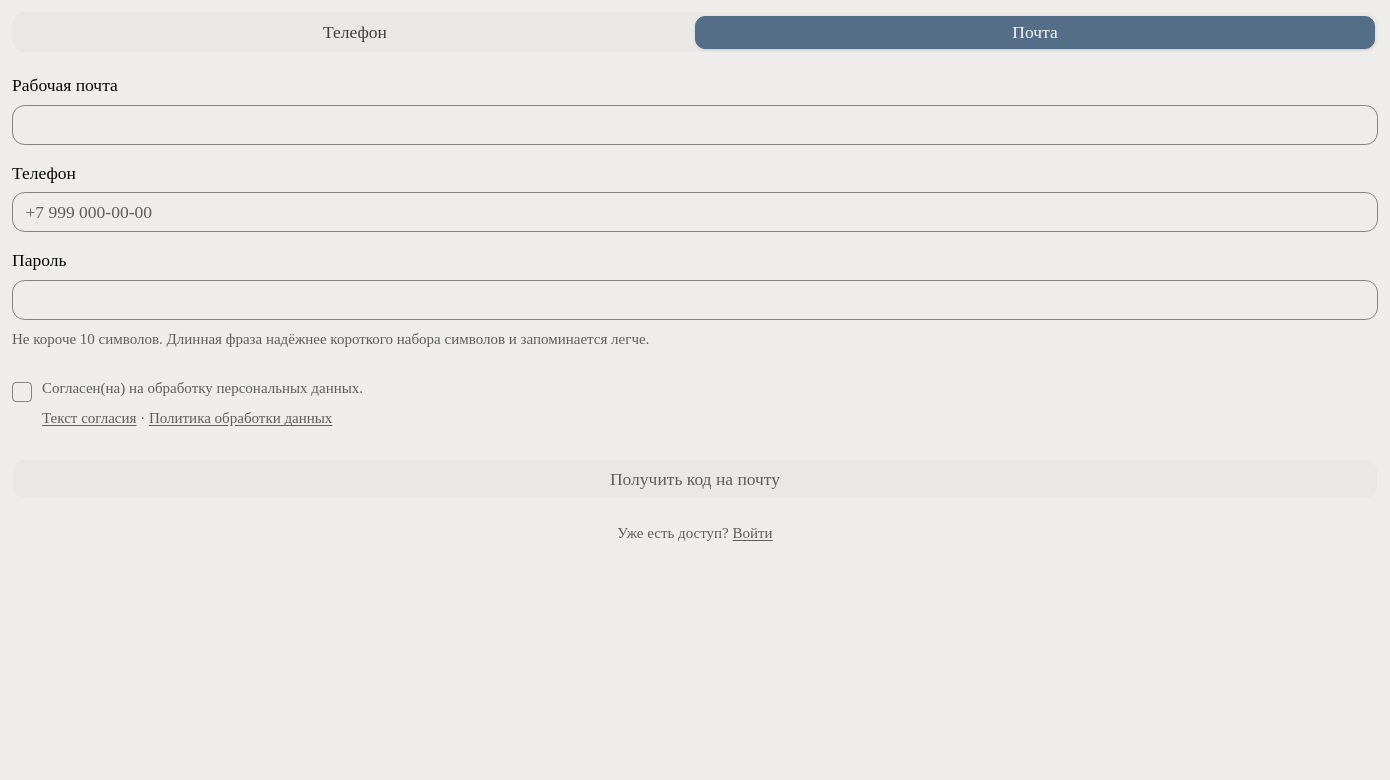
Test: вкладка «Почта» — прежняя регистрация по почте › с согласием — галочка уходит вместе с формой, дальше поле для кода
Type "hr@example.com" into the field labelled "Рабочая почта".
click(695, 124); type("hr@example.com")  # box [12,104,1378,144]
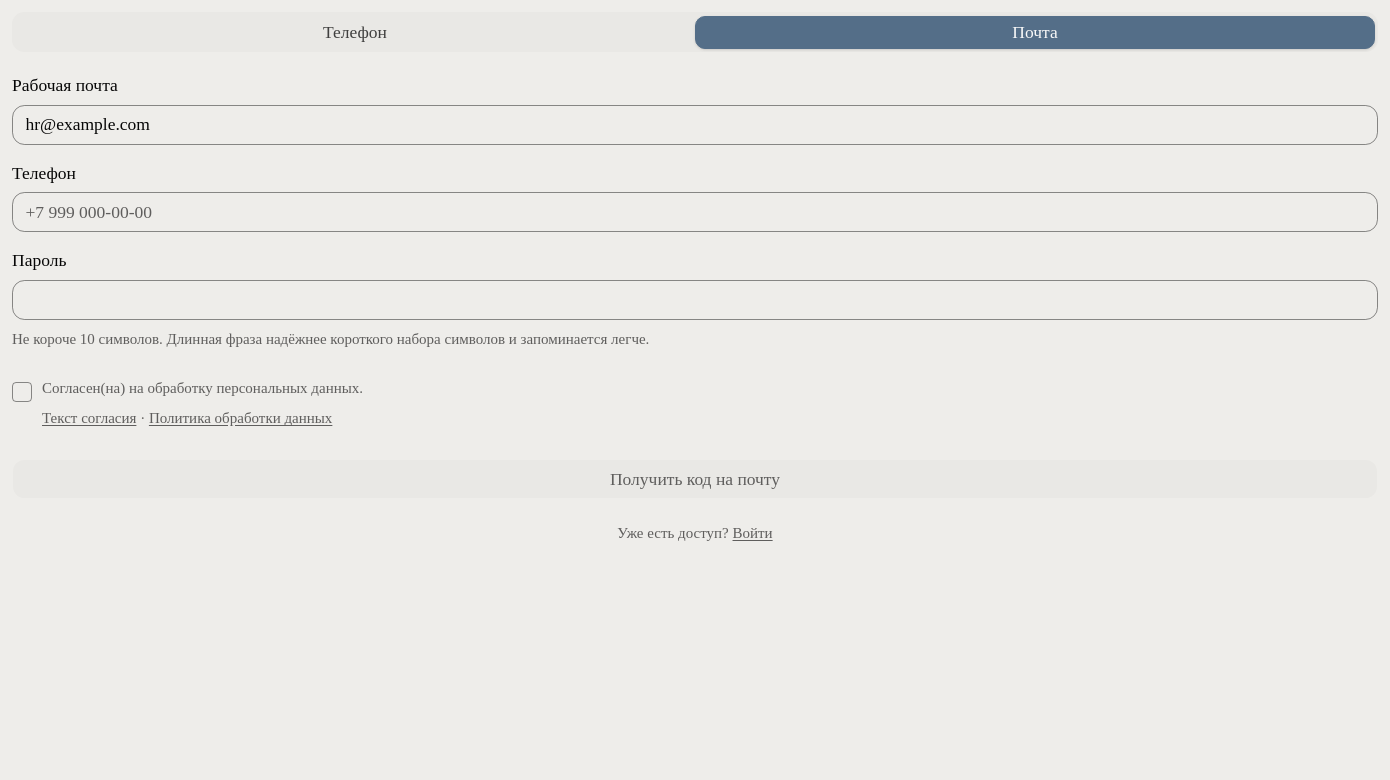
Type "+7 900 123-45-67" into the field labelled "Телефон".
click(695, 212); type("+7 900 123-45-67")  # box [12,192,1378,232]
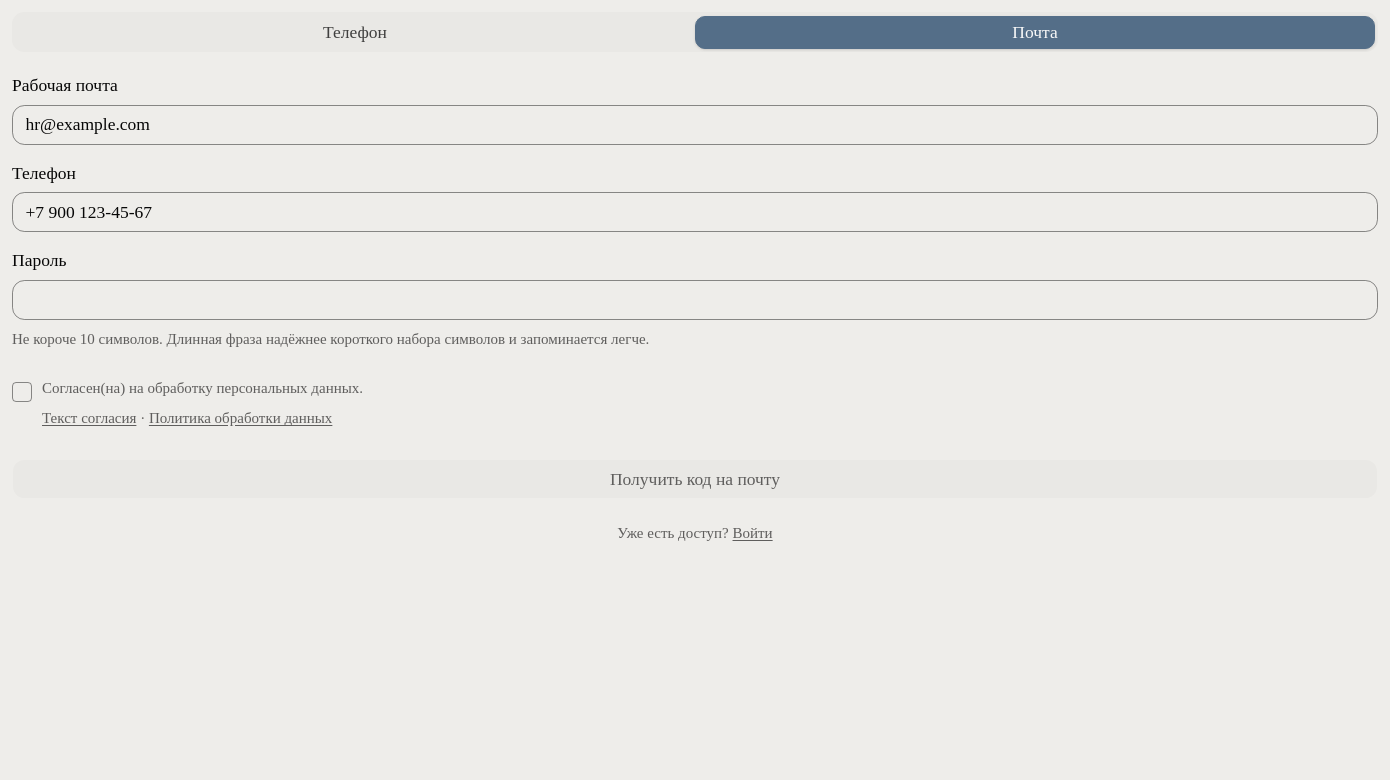
Type "длинный-пароль-1" into the password field labelled "Пароль".
click(695, 300); type("длинный-пароль-1")  # box [12,280,1378,320]
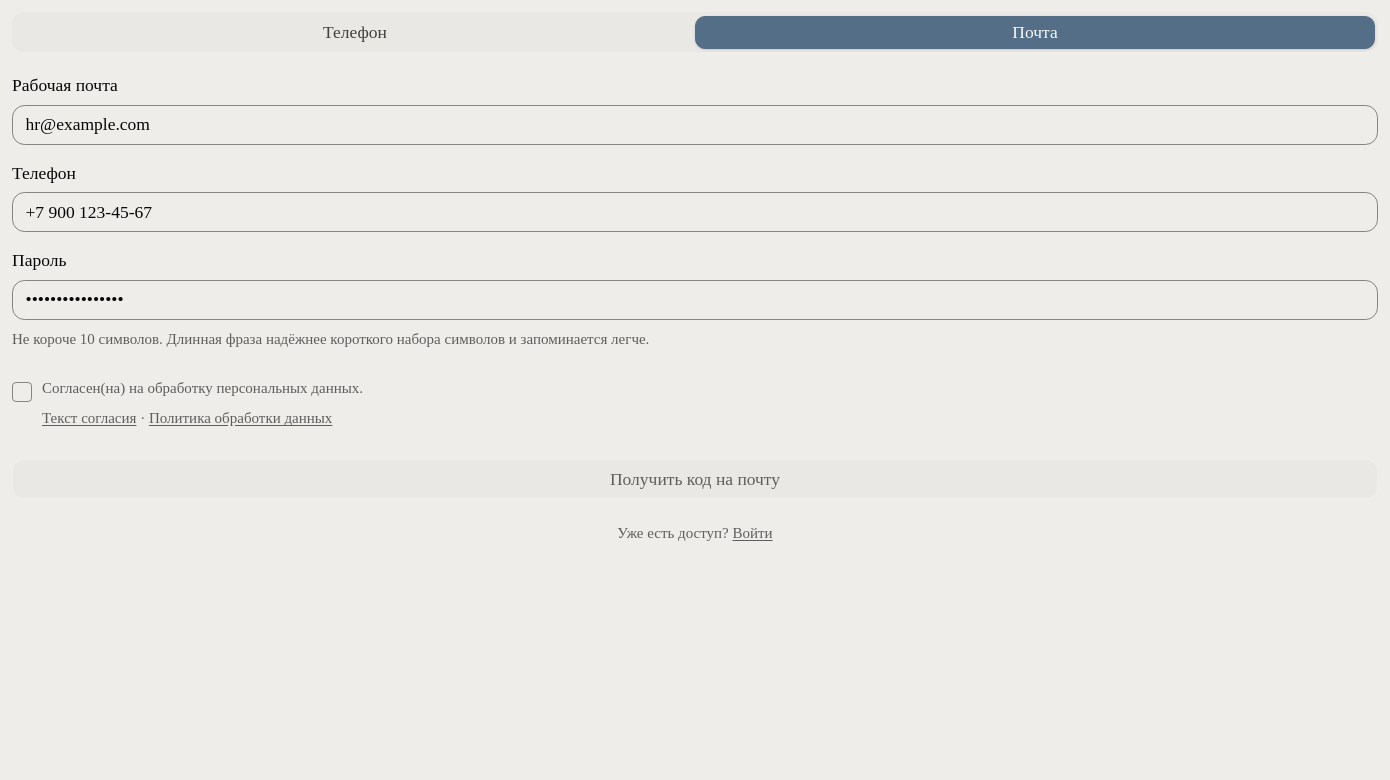
Click the checkbox.
click(22, 392)  # box [12,382,32,402]
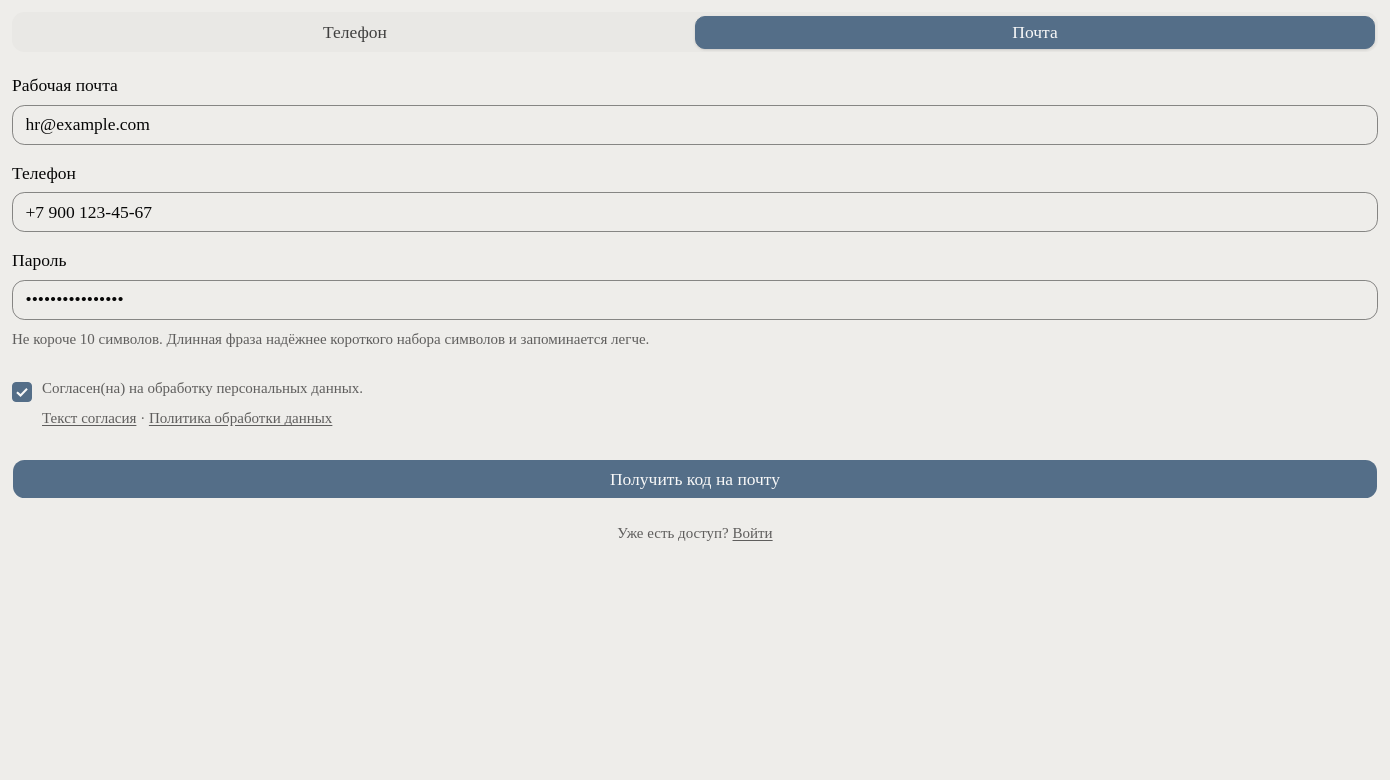
Submit the form named "Получить код на почту", box [12,77,1378,500]
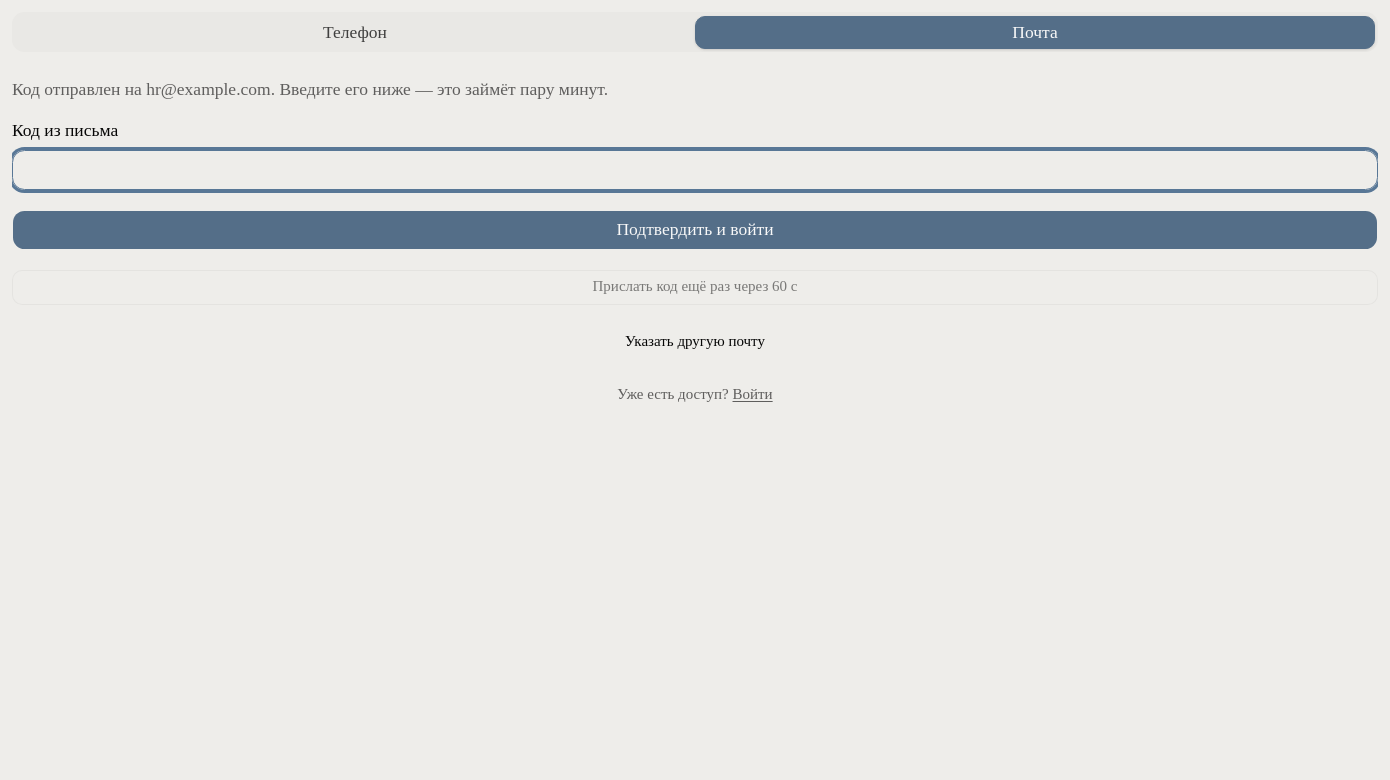
Result: the field labelled "Код из письма" is shown at [12,150,1378,190]
